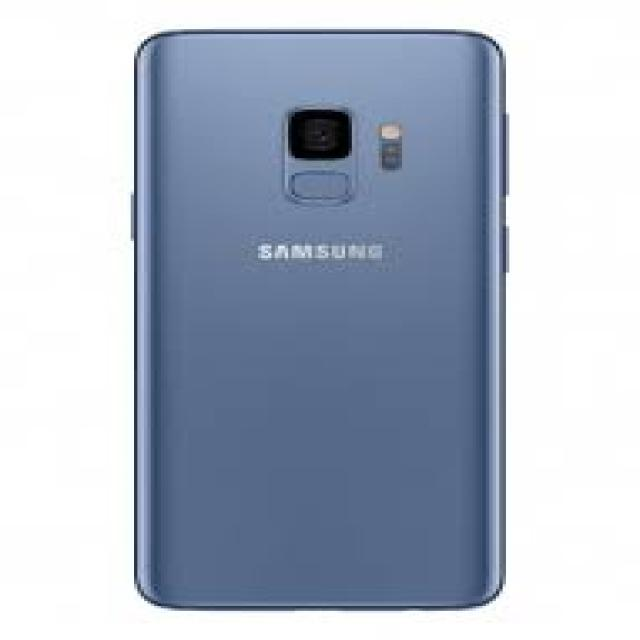mobile phone: (128, 27, 510, 611)
